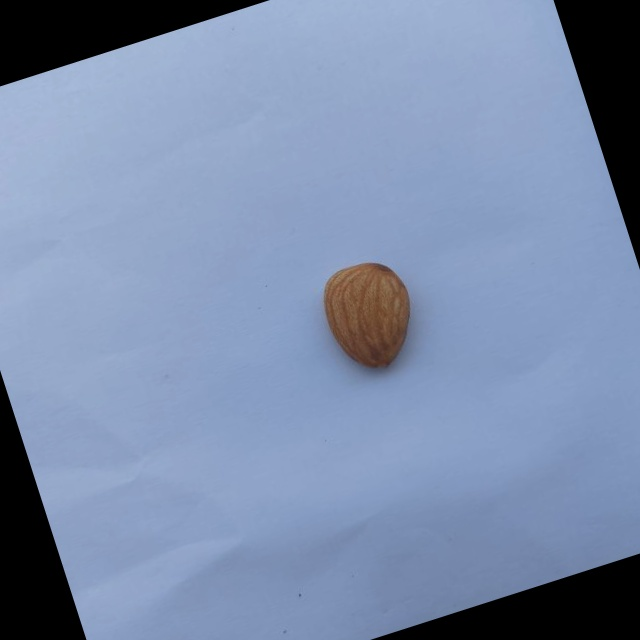grade1: (302, 244, 436, 391)
